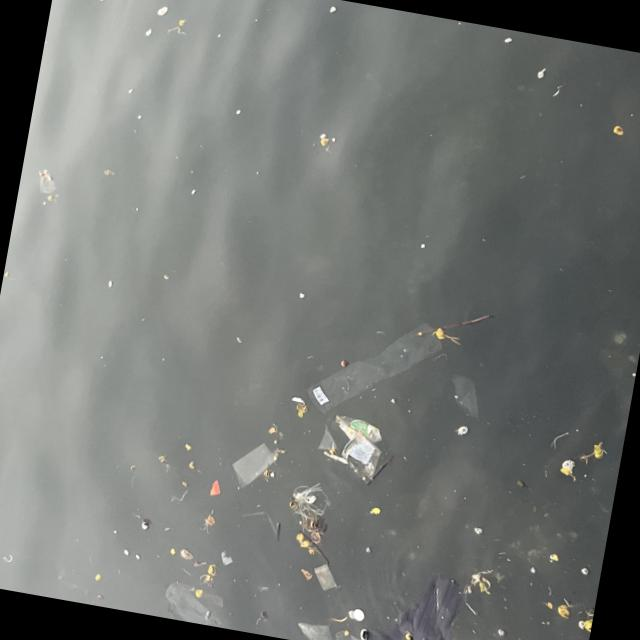plastic bag: (318, 413, 389, 482)
